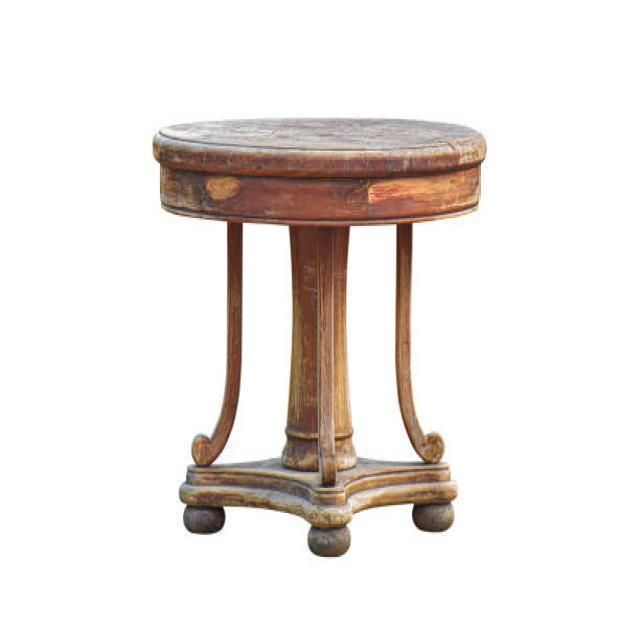table: (152, 114, 486, 557)
